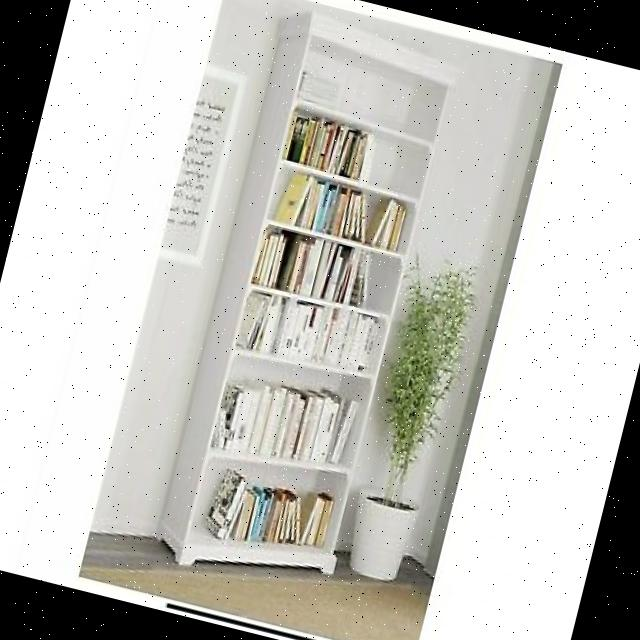Shelf: (140, 0, 470, 608)
